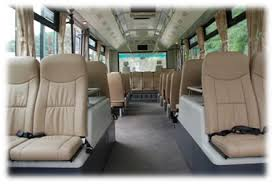seat: (30, 80, 88, 160)
